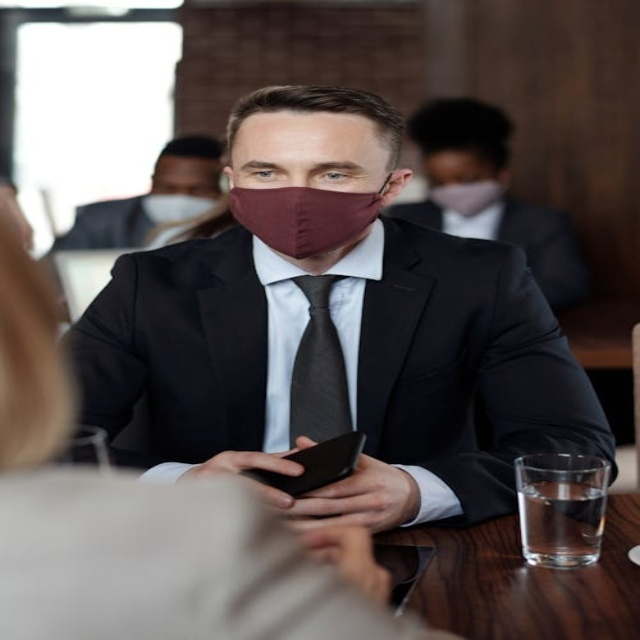Mascara: (229, 177, 392, 258), (427, 179, 503, 217), (143, 193, 220, 224)
Sin_gafas: (249, 169, 279, 179), (320, 172, 352, 181)
Sin_guantes: (263, 443, 427, 534), (297, 518, 400, 616)
